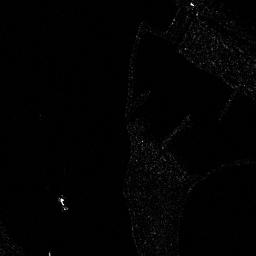ship: (56, 195, 69, 212)
